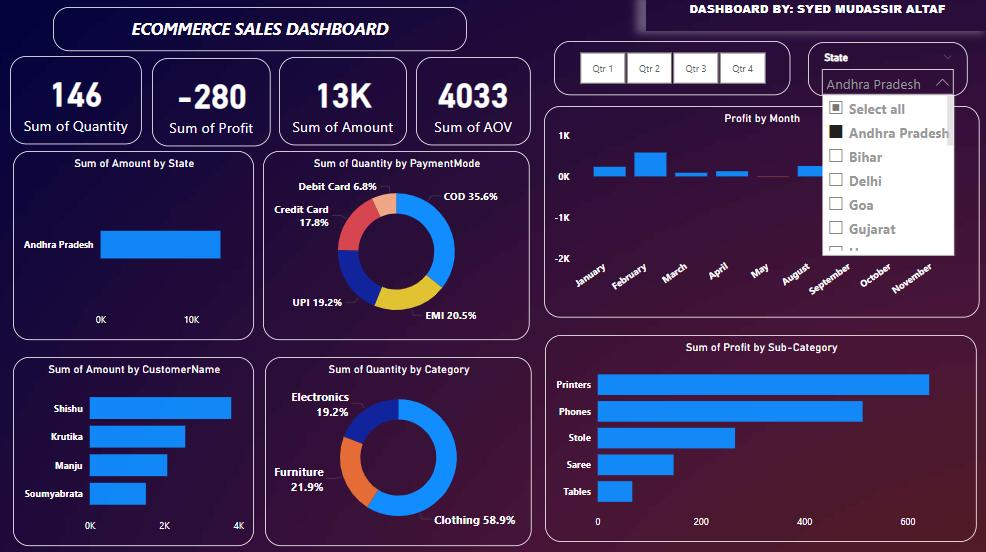

This screenshot's page, from the dashboard's own definition file:
{"tool":"powerbi","page":{"name":"Page 1","canvas":[1280,720],"ordinal":0},"visuals":[{"type":"textbox","box":[72.2,13.4,534.2,57.1],"z":0},{"type":"columnChart","title":"Profit by Month","fields":{"Y":["Sum(Details.Profit)"],"Category":["Orders.Date.Variation.Date Hierarchy.Month"]},"box":[706.1,140.4,561.5,272.5],"z":1000},{"type":"barChart","fields":{"Category":["Details.Sub-Category"],"Y":["Sum(Details.Profit)"]},"box":[707.4,436.3,557.4,267],"z":2000},{"type":"donutChart","fields":{"Category":["Details.Category"],"Y":["Sum(Details.Quantity)"]},"box":[346,464.1,344.1,243.6],"z":3000},{"type":"donutChart","fields":{"Category":["Details.PaymentMode","Details.Category"],"Y":["Sum(Details.Quantity)"]},"box":[343.3,198.5,344.1,243.6],"z":4000},{"type":"card","fields":{"Values":["Sum(Details.Amount)"]},"box":[364.5,77.3,164.6,114.2],"z":5000},{"type":"card","fields":{"Values":["Sum(Details.Profit)"]},"box":[199.9,79,152.9,114.2],"z":6000},{"type":"card","fields":{"Values":["Sum(Details.Quantity)"]},"box":[16.8,75.6,169.7,114.2],"z":7000},{"type":"card","fields":{"Values":["Sum(Details.AOV)"]},"box":[540.9,77.3,147.8,114.2],"z":8000},{"type":"barChart","fields":{"Category":["Orders.State"],"Y":["Sum(Details.Amount)"]},"box":[21.2,198.5,311.1,243.6],"z":9000},{"type":"barChart","fields":{"Category":["Orders.CustomerName"],"Y":["Sum(Details.Amount)"]},"box":[21.2,464.1,311.1,243.6],"z":10000},{"type":"slicer","fields":{"Values":["Orders.Date.Variation.Date Hierarchy.Quarter"]},"box":[718.7,56.8,304.5,69.7],"z":11000},{"type":"slicer","fields":{"Values":["Orders.State"]},"box":[1046.5,58.1,206.5,69.7],"z":12000},{"type":"textbox","box":[837.4,0,442.6,43.9],"z":12001}]}

Visuals, with their boxes in screenshot pixels (x1, y1, x2, y2), scaled from the page's 1280x720 canvas onto the 986x552 screenshot:
textbox: box(56, 10, 467, 54)
"Profit by Month" columnChart: box(544, 108, 976, 317)
barChart - Details.Sub-Category x Sum(Details.Profit): box(545, 334, 974, 539)
donutChart - Details.Category x Sum(Details.Quantity): box(267, 356, 532, 543)
donutChart - Details.PaymentMode x Details.Category: box(264, 152, 530, 339)
card - Sum(Details.Amount): box(281, 59, 408, 147)
card - Sum(Details.Profit): box(154, 61, 272, 148)
card - Sum(Details.Quantity): box(13, 58, 144, 146)
card - Sum(Details.AOV): box(417, 59, 531, 147)
barChart - Orders.State x Sum(Details.Amount): box(16, 152, 256, 339)
barChart - Orders.CustomerName x Sum(Details.Amount): box(16, 356, 256, 543)
slicer - Orders.Date.Variation.Date Hierarchy.Quarter: box(554, 44, 788, 97)
slicer - Orders.State: box(806, 45, 965, 98)
textbox: box(645, 0, 985, 34)
